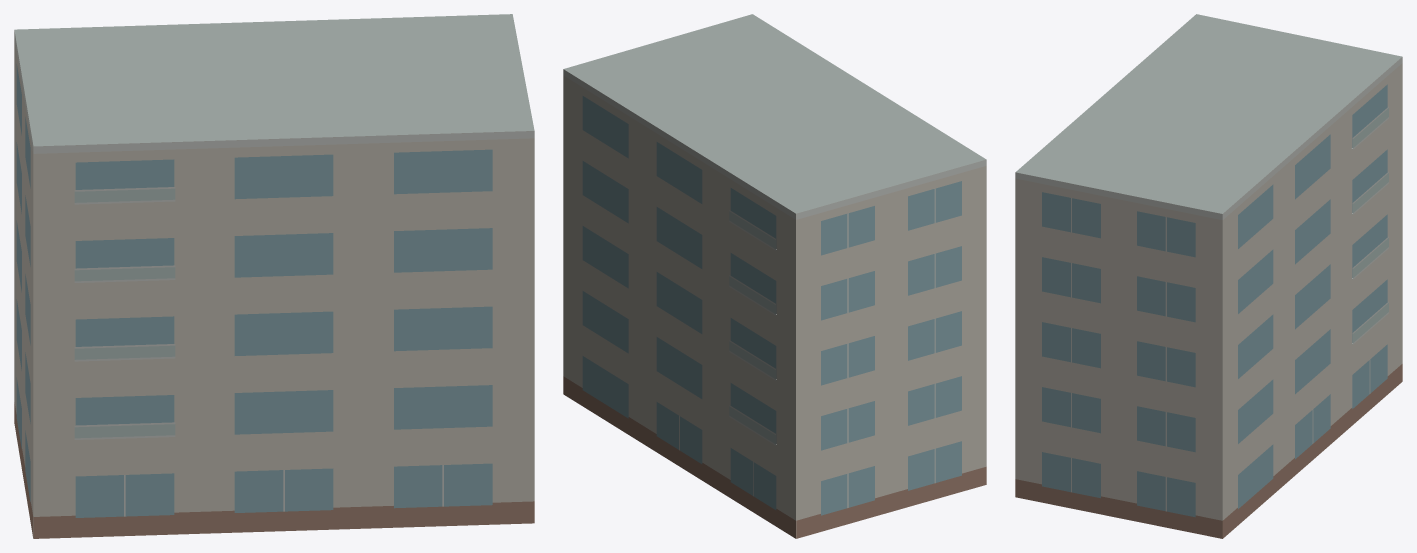
The model's file is survey-upis-32696704.glb.
3 renders of one model, left to right at view 1: azimuth 30°, elevation 25°; view 2: azimuth 150°, elevation 25°; view 3: azimuth 270°, elevation 25°, orthographic. The views are drawn at different scales.
Visible parts, largest first — view 1: survey-upis-32696704.tmp; view 2: survey-upis-32696704.tmp; view 3: survey-upis-32696704.tmp.
Part boxes in pixels (<box>): survey-upis-32696704.tmp: <box>14,14,534,538</box>; survey-upis-32696704.tmp: <box>563,14,986,538</box>; survey-upis-32696704.tmp: <box>1015,14,1402,538</box>.
Bounding box in the file's own units: 16.91 × 12.8 × 13.84.
